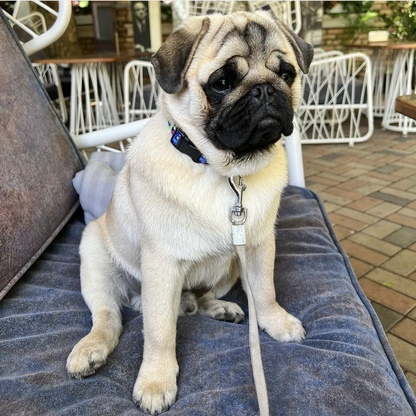Pug: (61, 6, 319, 416)
